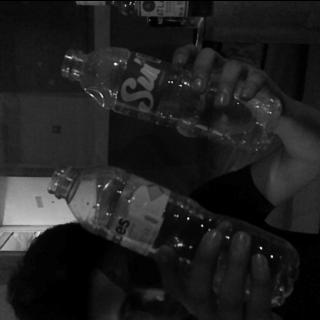plastic_bottles: (49, 162, 304, 312), (61, 44, 283, 152)
